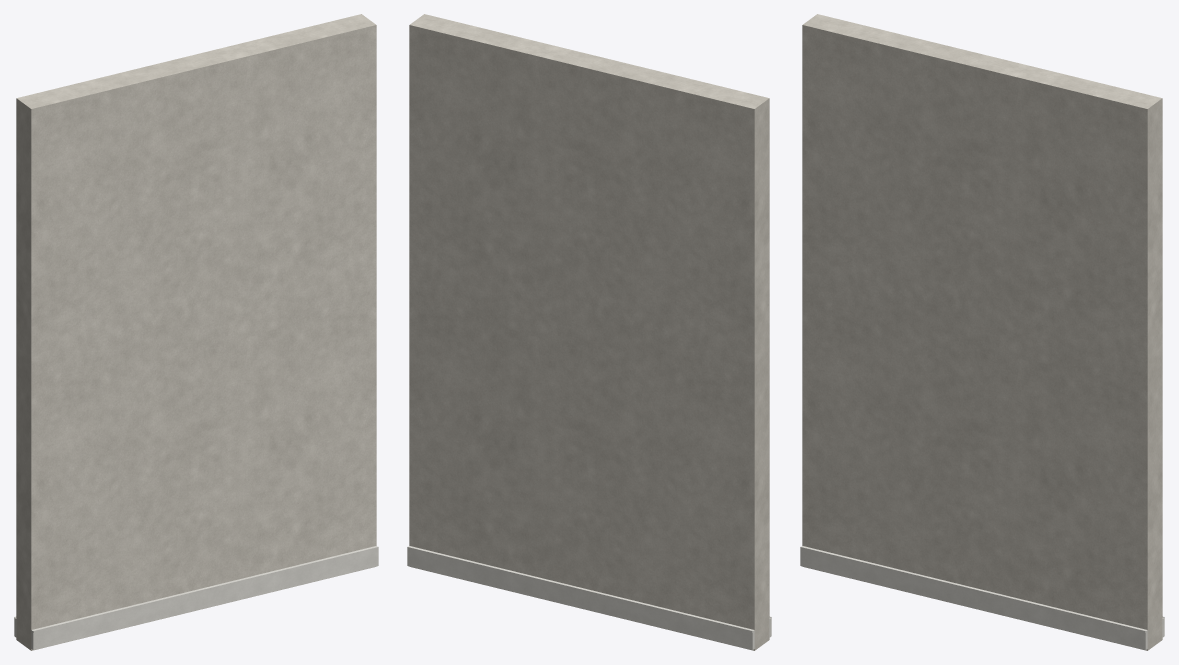
The model's file is PROJECT_Z_Interior_V02_Straight_2m.glb.
The picture shows the model from 3 angles, left to right: view 1: azimuth 30°, elevation 25°; view 2: azimuth 150°, elevation 25°; view 3: azimuth 330°, elevation 25°; orthographic projection.
Visible parts, largest first — view 1: V02_Straight_2m__Render_Plastershell_Continuous, V02_Straight_2m__Render_Skirting_Front, V02_Straight_2m__Render_Skirting_TopLip_Front; view 2: V02_Straight_2m__Render_Plastershell_Continuous, V02_Straight_2m__Render_Skirting_Back, V02_Straight_2m__Render_Skirting_TopLip_Back; view 3: V02_Straight_2m__Render_Plastershell_Continuous, V02_Straight_2m__Render_Skirting_Front, V02_Straight_2m__Render_Skirting_TopLip_Front.
Part boxes in pixels (x1,y1,x2,y2): V02_Straight_2m__Render_Plastershell_Continuous: (16, 14, 376, 650); V02_Straight_2m__Render_Skirting_Front: (31, 546, 378, 650); V02_Straight_2m__Render_Skirting_TopLip_Front: (33, 546, 378, 632); V02_Straight_2m__Render_Plastershell_Continuous: (409, 14, 769, 650); V02_Straight_2m__Render_Skirting_Back: (407, 546, 754, 650); V02_Straight_2m__Render_Skirting_TopLip_Back: (407, 546, 752, 632); V02_Straight_2m__Render_Plastershell_Continuous: (802, 14, 1162, 650); V02_Straight_2m__Render_Skirting_Front: (800, 546, 1147, 650); V02_Straight_2m__Render_Skirting_TopLip_Front: (800, 546, 1145, 632).
Size of the model in its own units: 2 by 3 by 0.194.
Materials: 2 (2 with a texture image).
